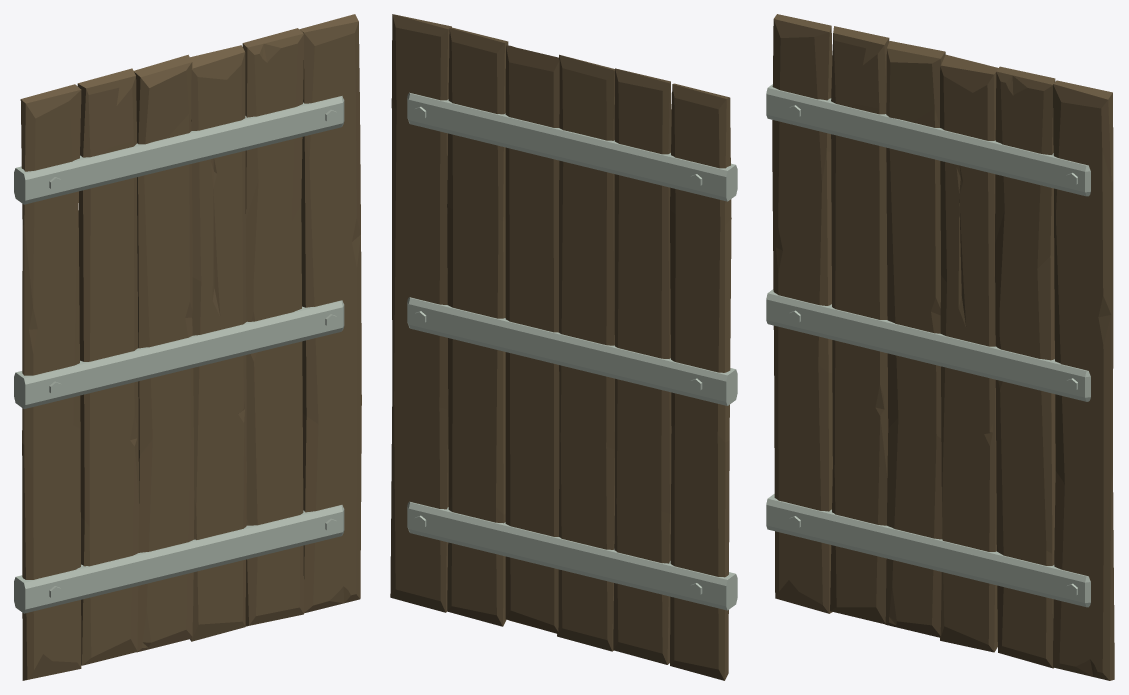
Rendered from greek_door_1.fbx.
3 views of the same model, side by side, from view 1: azimuth 30°, elevation 25°; view 2: azimuth 150°, elevation 25°; view 3: azimuth 330°, elevation 25° (orthographic).
Parts seen in each view (by area): view 1: Cube.062; view 2: Cube.062; view 3: Cube.062.
Part boxes in pixels (x1,y1,x2,y2): Cube.062: (14, 14, 361, 680); Cube.062: (390, 14, 737, 680); Cube.062: (766, 14, 1114, 680).
Size of the model in its own units: 139 by 229 by 10.
